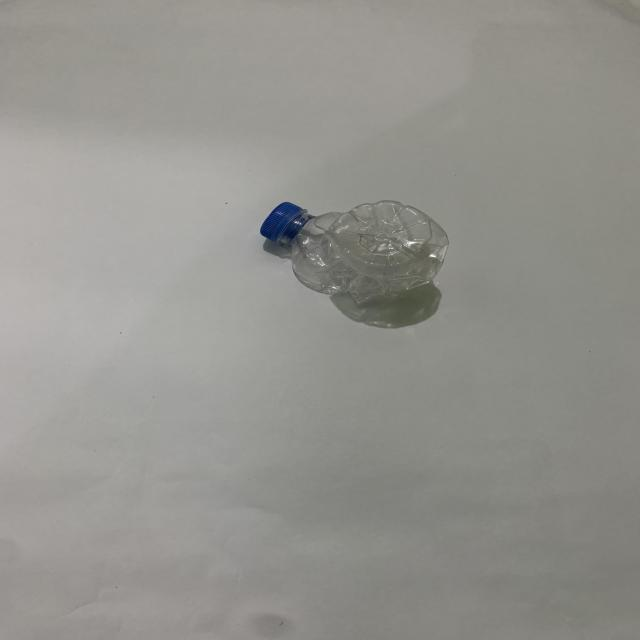bottle: (252, 172, 469, 312)
